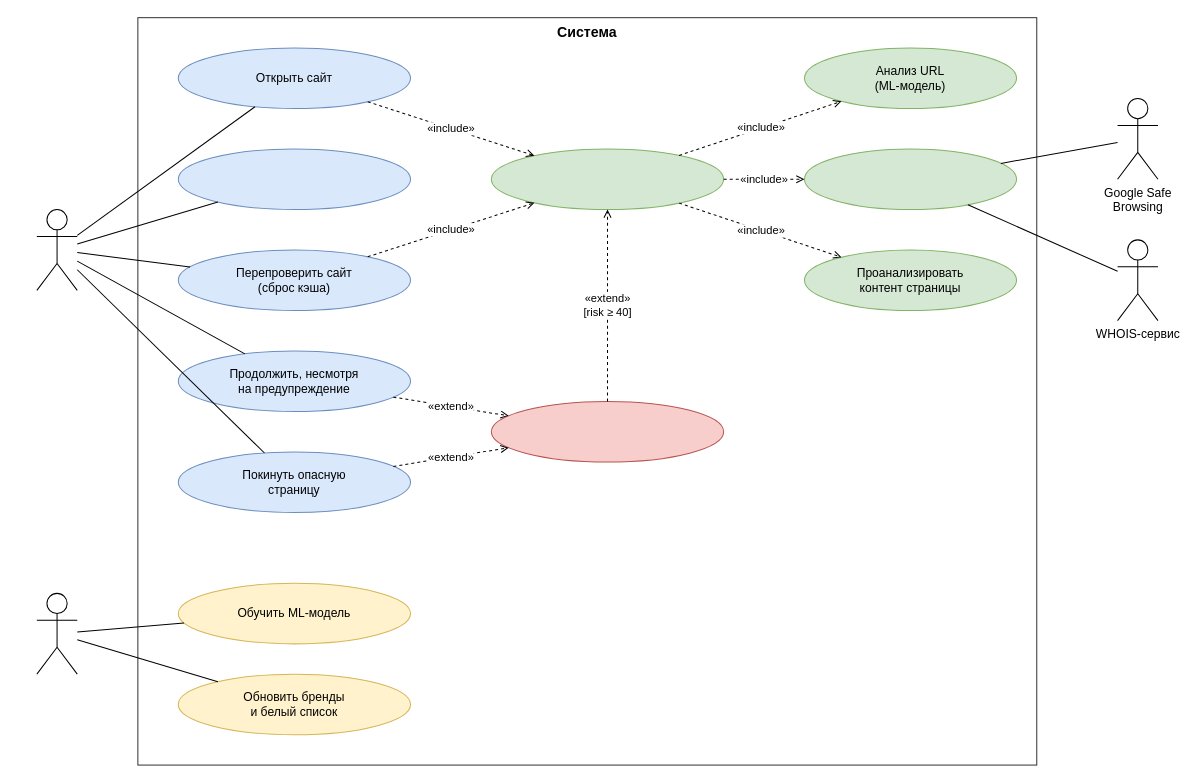
The diagram is 1197 pixels wide and 783 high, and some of its shapes have lost their labels. The shapes that lost their labels are listed below. From the top down, each one's box as (x1, y1, x2, y2) in pixels, then its label:
(177, 148, 411, 210): Посмотреть оценку риска и причины
(490, 148, 724, 210): Проверить сайт (оценка риска)
(803, 148, 1017, 210): Проверить репутацию домена
(36, 209, 77, 290): Пользователь
(490, 400, 724, 462): Показать предупреждение (баннер)
(36, 592, 77, 674): Алибек
